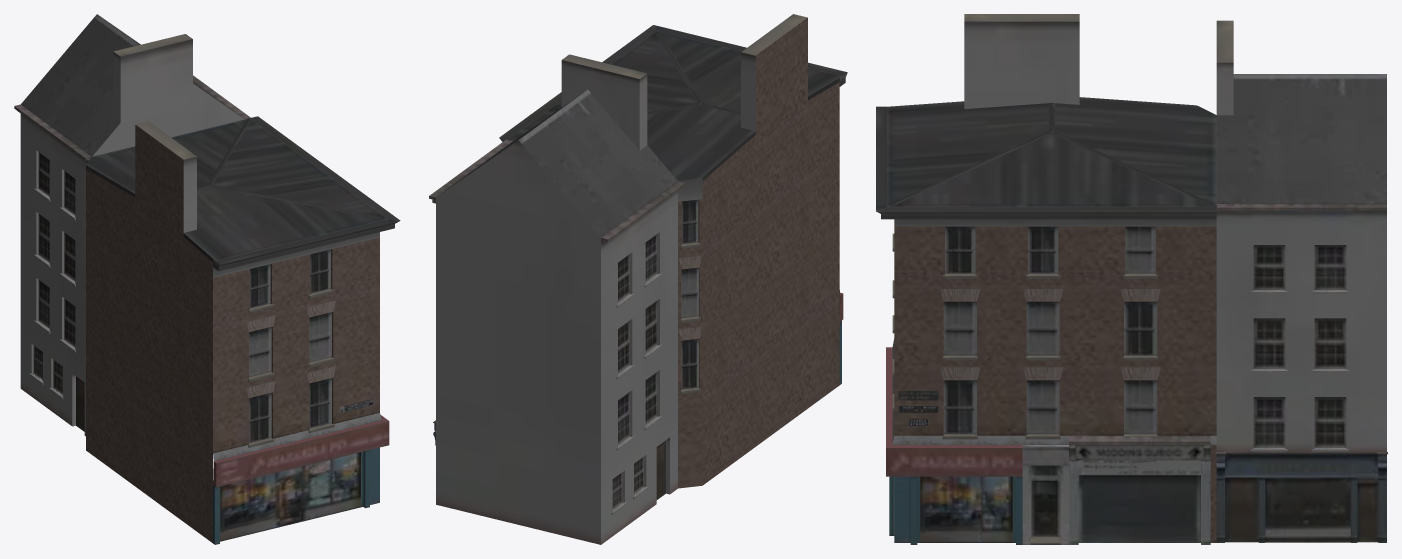
The model's file is shop-a.glb.
The picture shows the model from 3 angles, left to right: view 1: azimuth 30°, elevation 25°; view 2: azimuth 150°, elevation 25°; view 3: azimuth 270°, elevation 25°; orthographic projection. The views are drawn at different scales.
Visible parts, largest first — view 1: Plane_2_0; view 2: Plane_2_0; view 3: Plane_2_0.
Part boxes in pixels (box(x1,y1,x2,y2)): Plane_2_0: box(14, 14, 400, 544); Plane_2_0: box(429, 14, 847, 544); Plane_2_0: box(876, 14, 1387, 544).
Bounding box in the file's own units: 7.55 × 15.11 × 15.58.
Materials: 1 (1 with a texture image).
